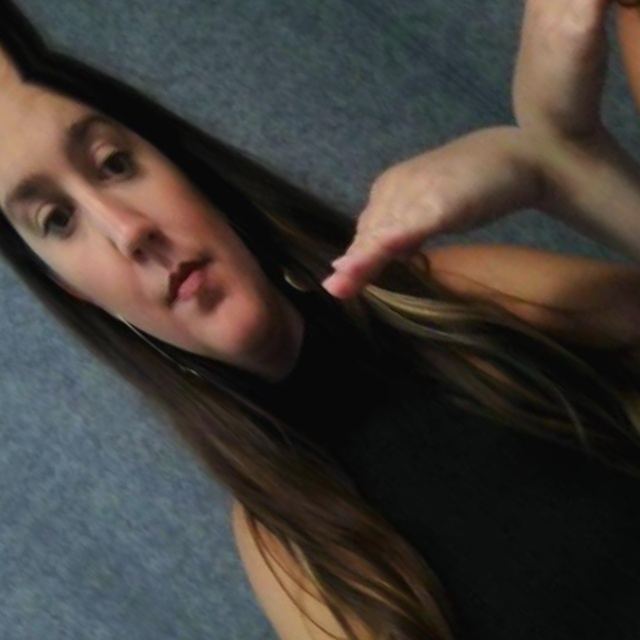Paper: (274, 72, 565, 372)
